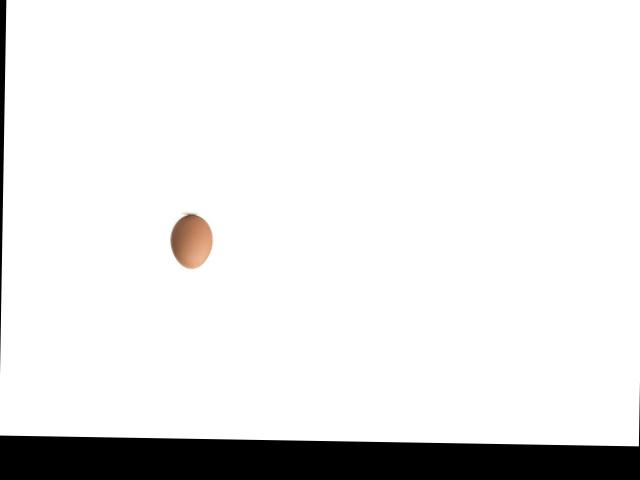egg: (169, 213, 212, 268)
